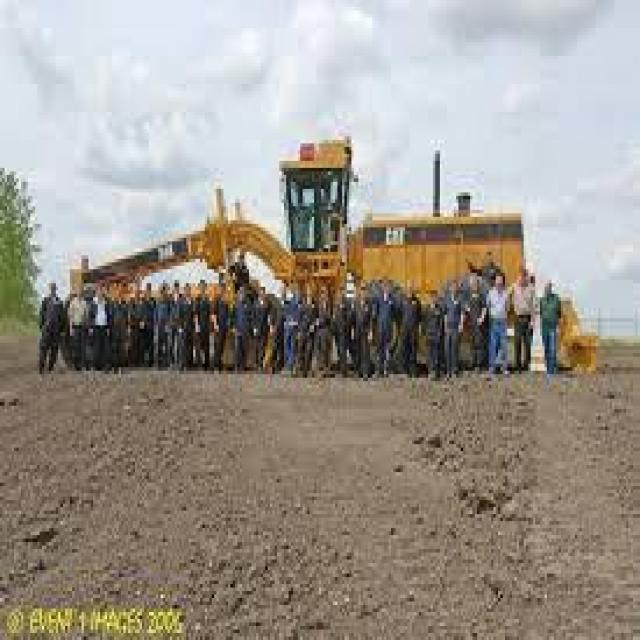buldozerpayloadergrader: (67, 122, 628, 413)
